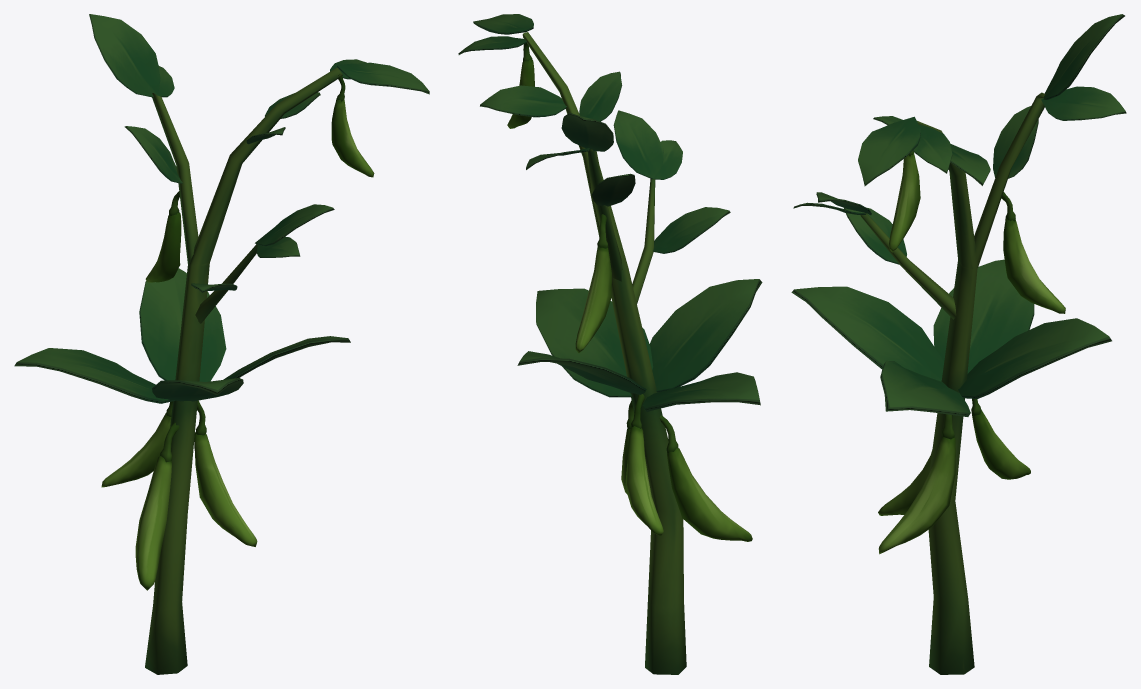
The model's file is feijão inteiro.fbx.
3 views of the same model, side by side, from view 1: azimuth 30°, elevation 25°; view 2: azimuth 150°, elevation 25°; view 3: azimuth 270°, elevation 25° (orthographic). The views are drawn at different scales.
Parts seen in each view (by area): view 1: Feijao, Group3433, Group48835, Group59064, Group46594, Group21297, Group10401, Group6351, Group53954, Group59066, Group41415, Group31640 (+5 smaller); view 2: Feijao, Group59066, Group13671, Group46594, Group59064, Group59065, Group6351, Group31640, Group28698, Group8558, Group3433, Group28699 (+8 smaller); view 3: Feijao, Group59066, Group3433, Group59064, Group21297, Group13671, Group53954, Group31640, Group10401, Group28697, Group48835, Group6351 (+7 smaller).
Boxes of the visible parts, bbox=[...] form: Feijao: bbox=[145, 67, 342, 674]; Group3433: bbox=[139, 268, 226, 381]; Group48835: bbox=[89, 14, 160, 97]; Group59064: bbox=[14, 348, 174, 403]; Group46594: bbox=[135, 456, 171, 590]; Group21297: bbox=[194, 432, 257, 546]; Group10401: bbox=[152, 93, 198, 263]; Group6351: bbox=[101, 412, 171, 487]; Group53954: bbox=[337, 62, 429, 94]; Group59066: bbox=[152, 378, 243, 401]; Group41415: bbox=[331, 98, 374, 177]; Group31640: bbox=[145, 212, 181, 282]; Feijao: bbox=[522, 32, 686, 674]; Group59066: bbox=[649, 279, 762, 392]; Group13671: bbox=[536, 288, 653, 397]; Group46594: bbox=[667, 448, 752, 541]; Group59064: bbox=[642, 372, 760, 411]; Group59065: bbox=[613, 110, 663, 179]; Group6351: bbox=[625, 426, 663, 536]; Group31640: bbox=[575, 246, 611, 352]; Group28698: bbox=[480, 85, 566, 117]; Group8558: bbox=[653, 207, 730, 253]; Group3433: bbox=[517, 351, 646, 394]; Group28699: bbox=[579, 71, 622, 121]; Feijao: bbox=[917, 121, 977, 674]; Group59066: bbox=[791, 286, 944, 381]; Group3433: bbox=[958, 318, 1111, 398]; Group59064: bbox=[933, 259, 1034, 373]; Group21297: bbox=[878, 436, 955, 554]; Group13671: bbox=[880, 360, 970, 416]; Group53954: bbox=[858, 116, 920, 186]; Group31640: bbox=[1003, 218, 1065, 313]; Group10401: bbox=[974, 92, 1045, 267]; Group28697: bbox=[1041, 86, 1126, 120]; Group48835: bbox=[1043, 14, 1124, 99]; Group6351: bbox=[972, 410, 1030, 479].
Bounding box in the file's own units: 35.68 × 58.53 × 27.19.
Materials: 3 (3 with a texture image).
